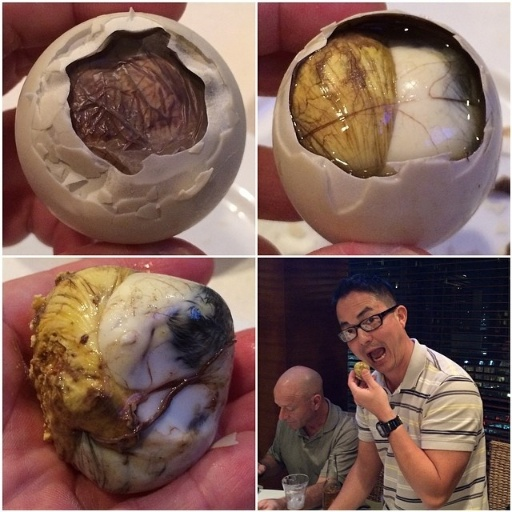hand: (2, 256, 254, 510), (2, 0, 206, 256), (257, 2, 435, 256), (345, 366, 385, 413), (256, 496, 288, 511), (256, 462, 265, 473)
